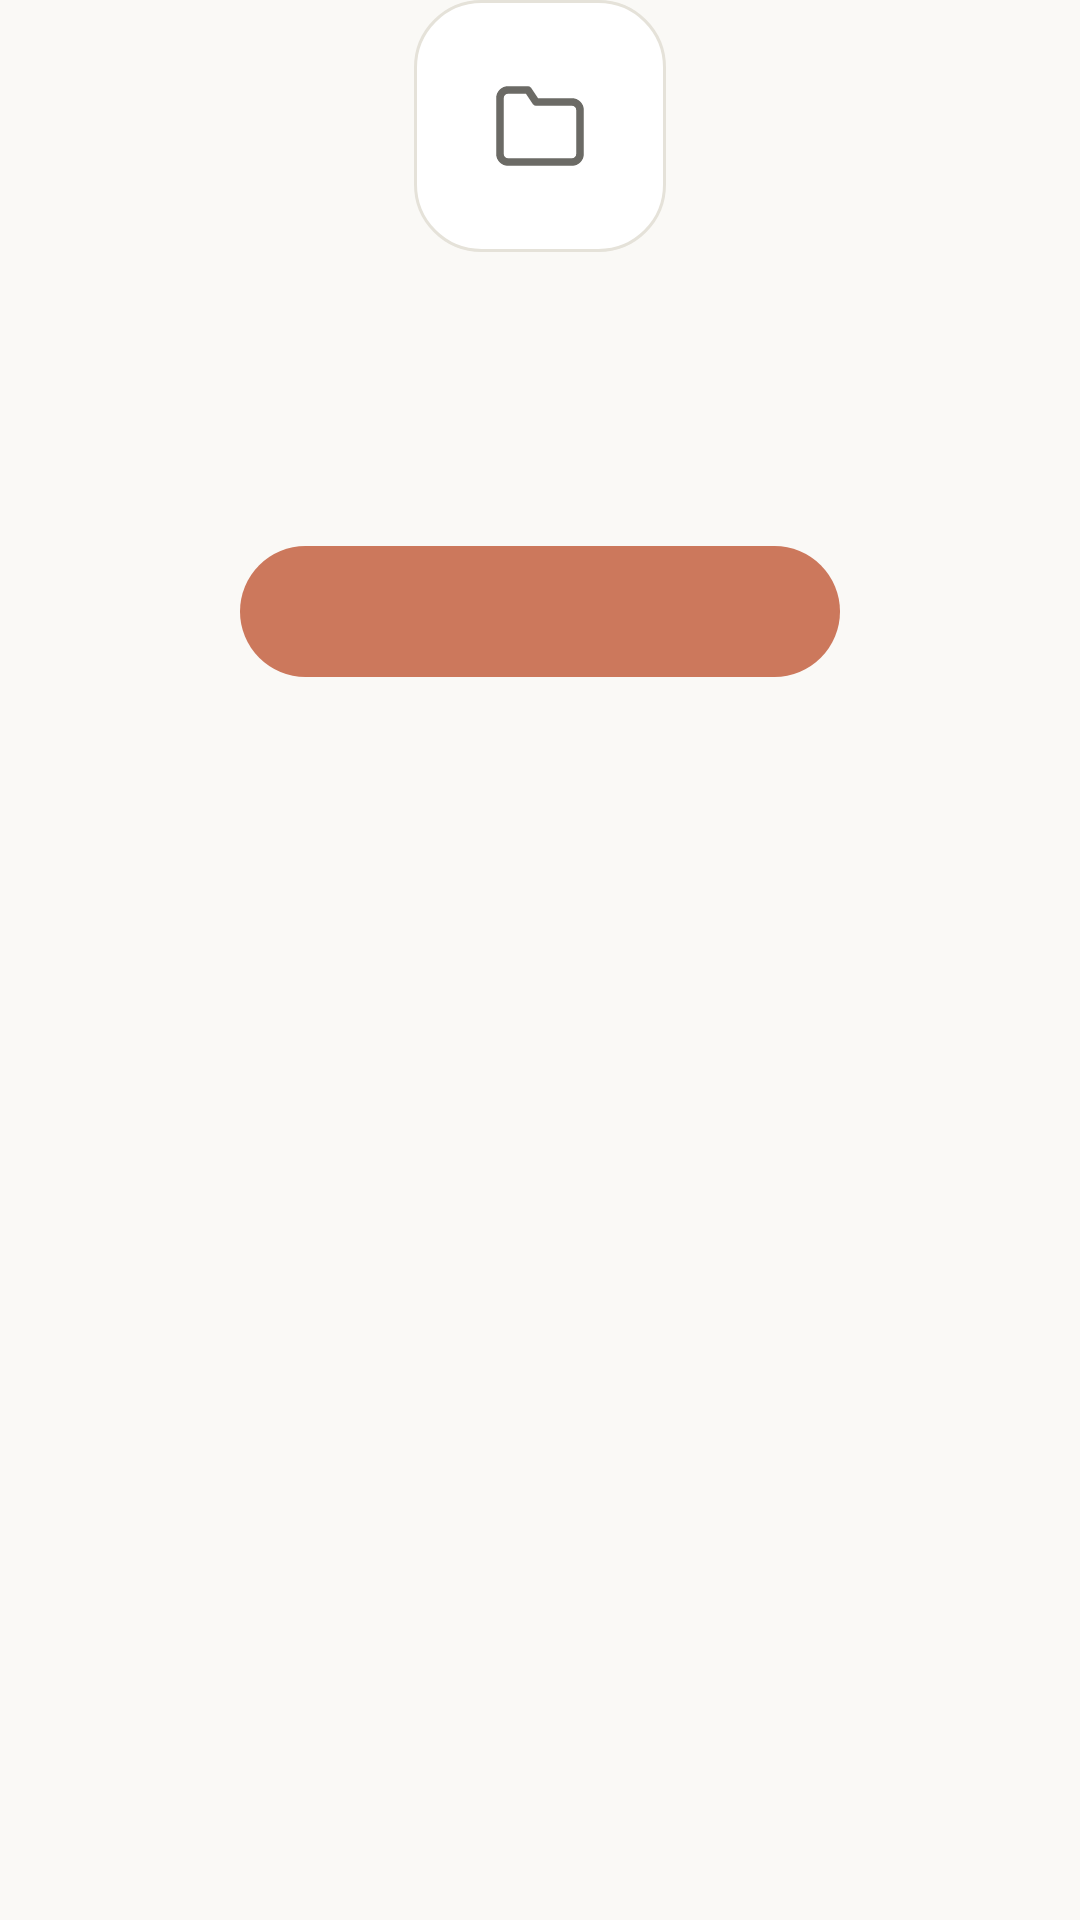

Point at icon controls on the screen. Image size 1080x1920, points as [x,y].
pdf folder: [540,126]
